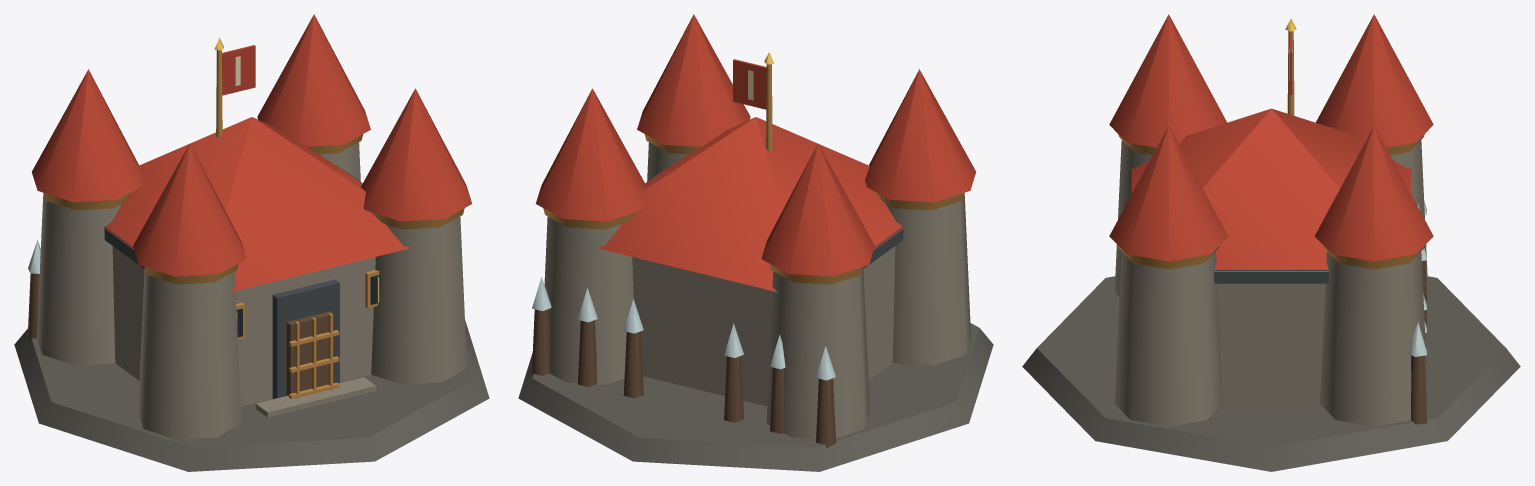
Rendered from keep_enemy.glb.
3 renders of one model, left to right at view 1: azimuth 30°, elevation 25°; view 2: azimuth 150°, elevation 25°; view 3: azimuth 270°, elevation 25°, orthographic.
Visible parts, largest first — view 1: Marauder_Warcamp; view 2: Marauder_Warcamp; view 3: Marauder_Warcamp.
Part boxes in pixels (x1,y1,x2,y2): Marauder_Warcamp: [14, 14, 489, 471]; Marauder_Warcamp: [518, 14, 993, 471]; Marauder_Warcamp: [1022, 14, 1520, 471].
Size of the model in its own units: 10.2 by 7.61 by 10.2.
